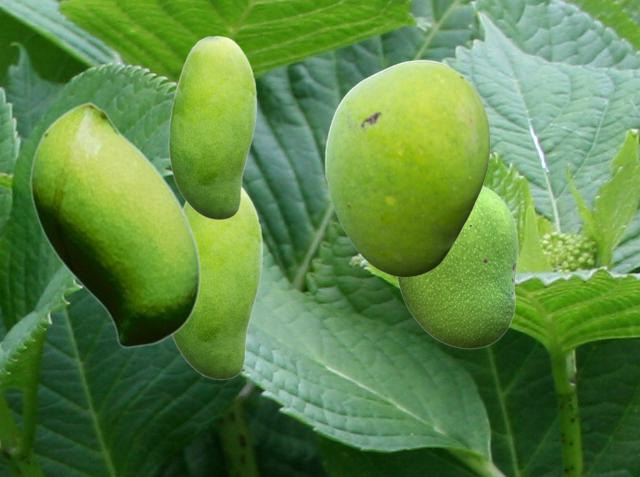green_mango: (29, 101, 199, 347), (324, 59, 489, 276), (396, 185, 517, 348), (172, 187, 262, 379), (168, 35, 256, 219)
